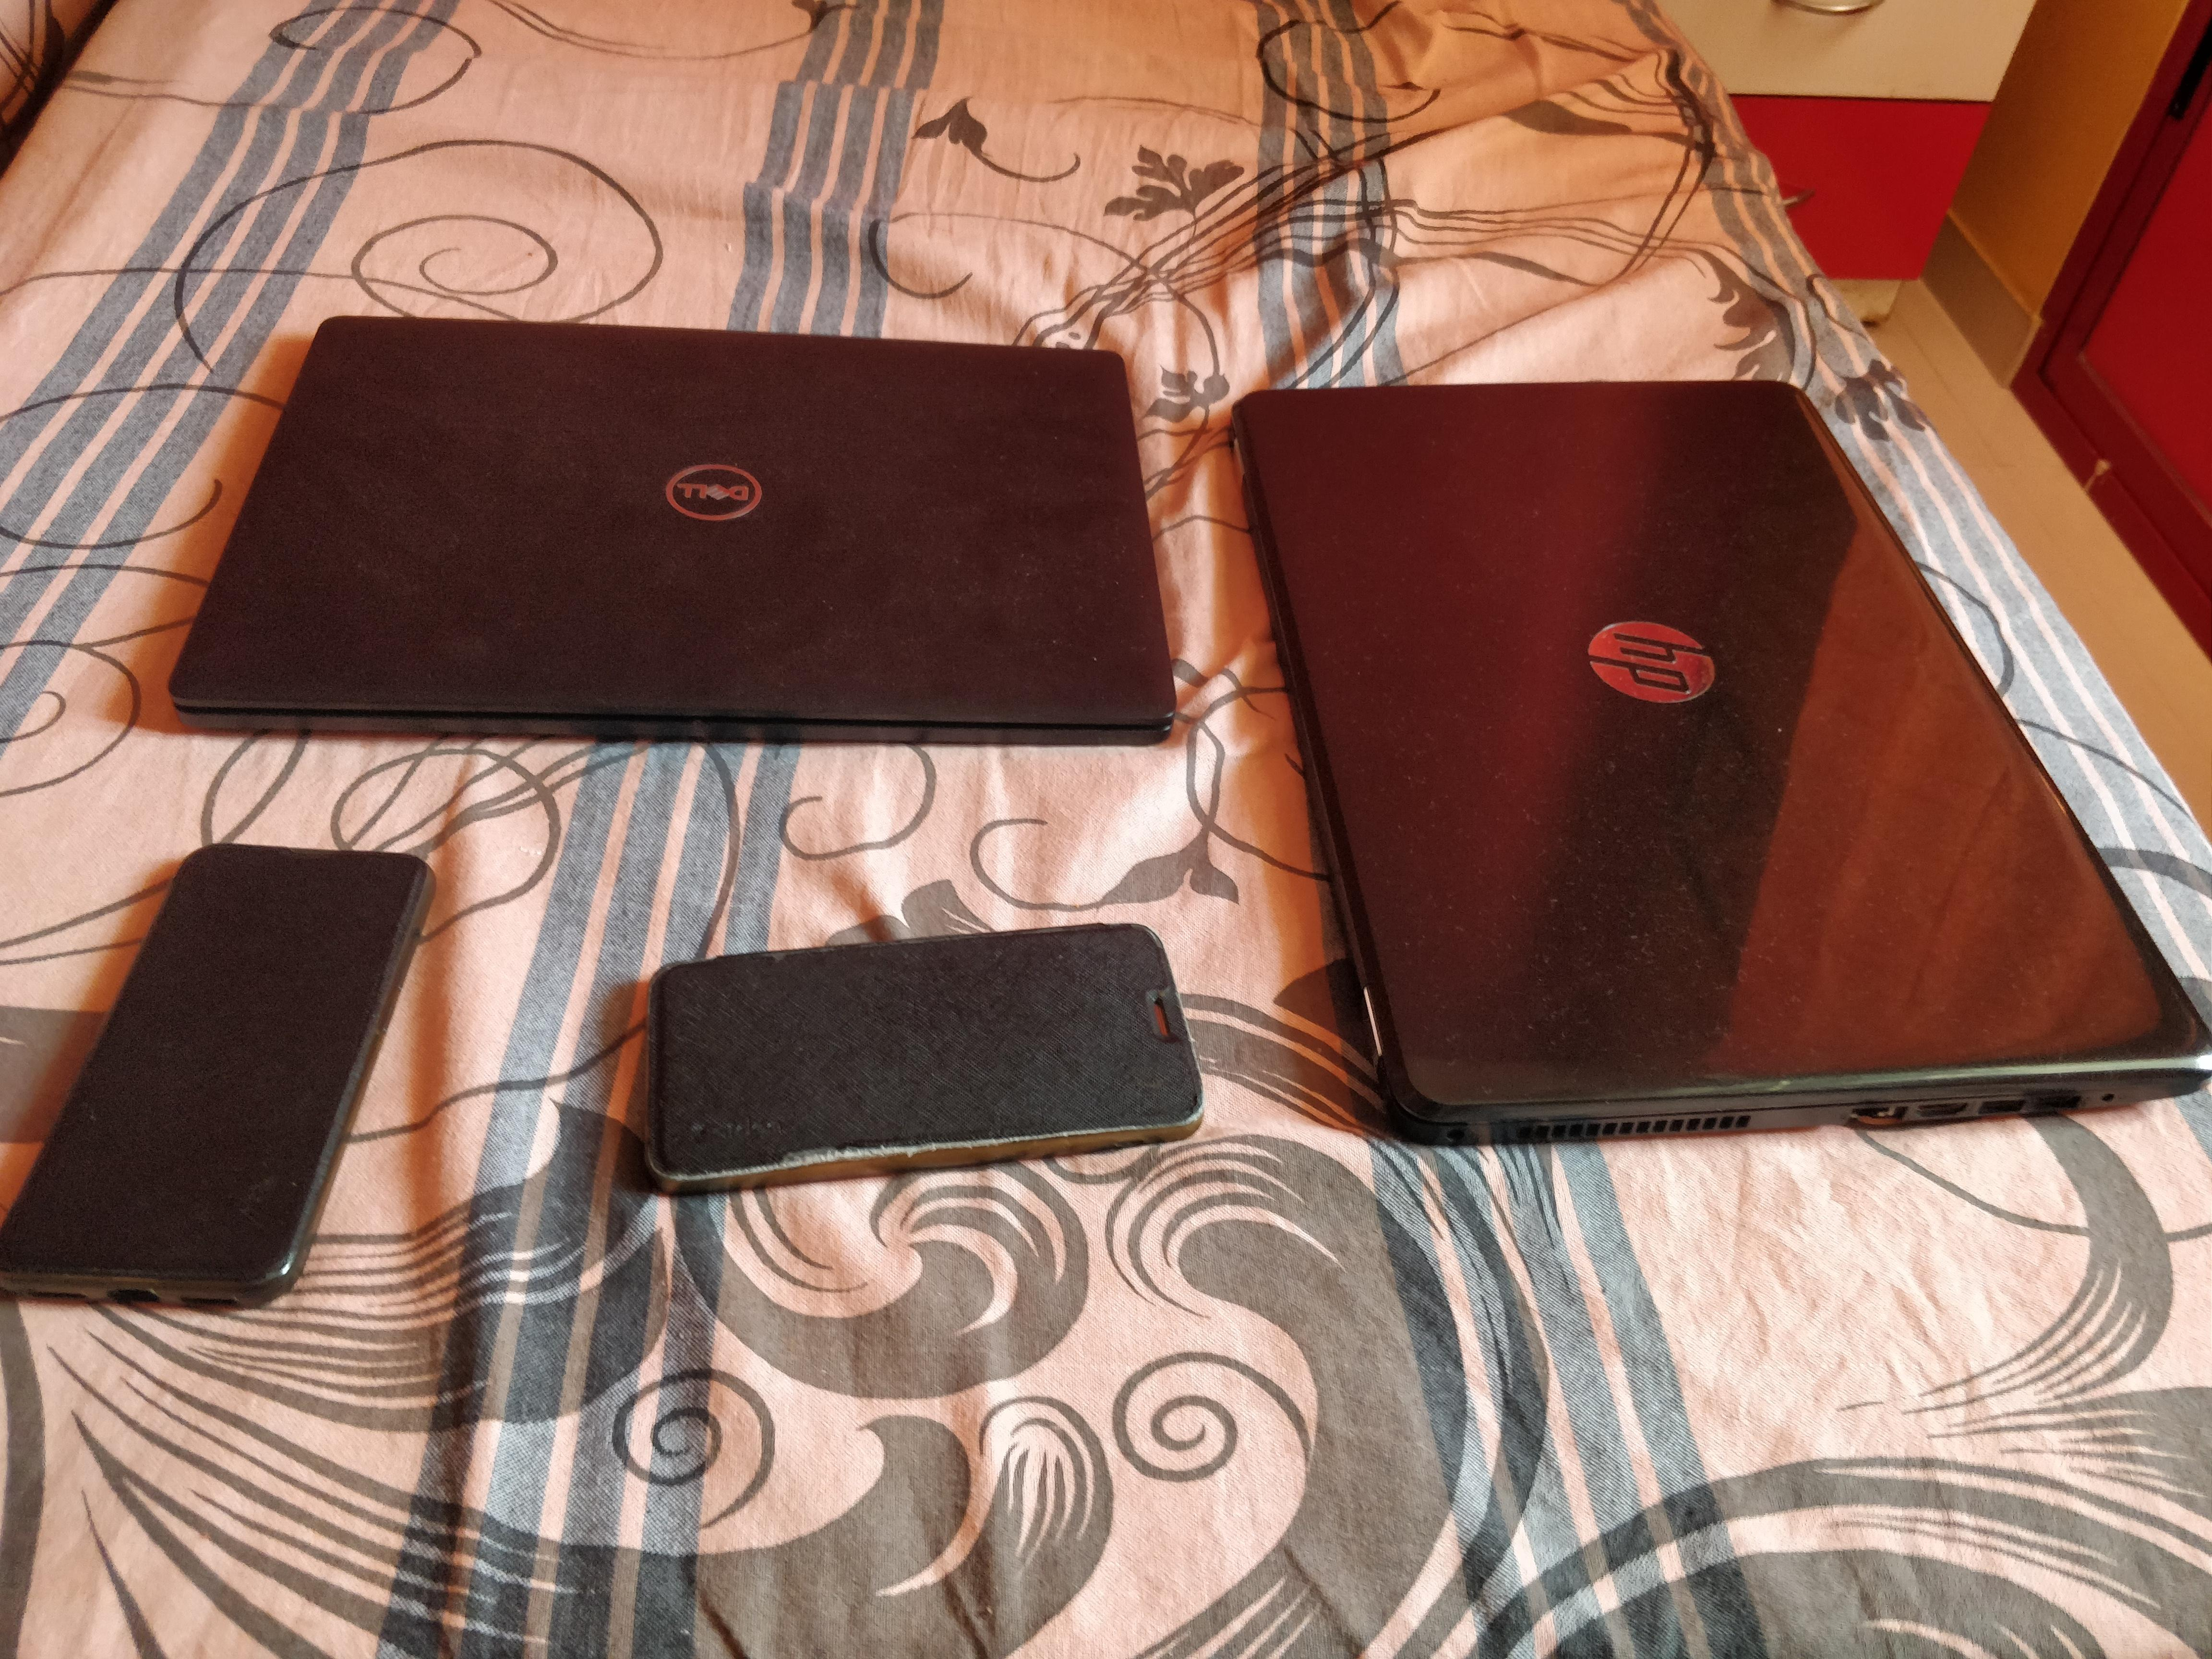Phone: (3, 802, 469, 1347), (599, 894, 1238, 1225)
laptop: (1221, 354, 2212, 1168), (85, 256, 1214, 786)
